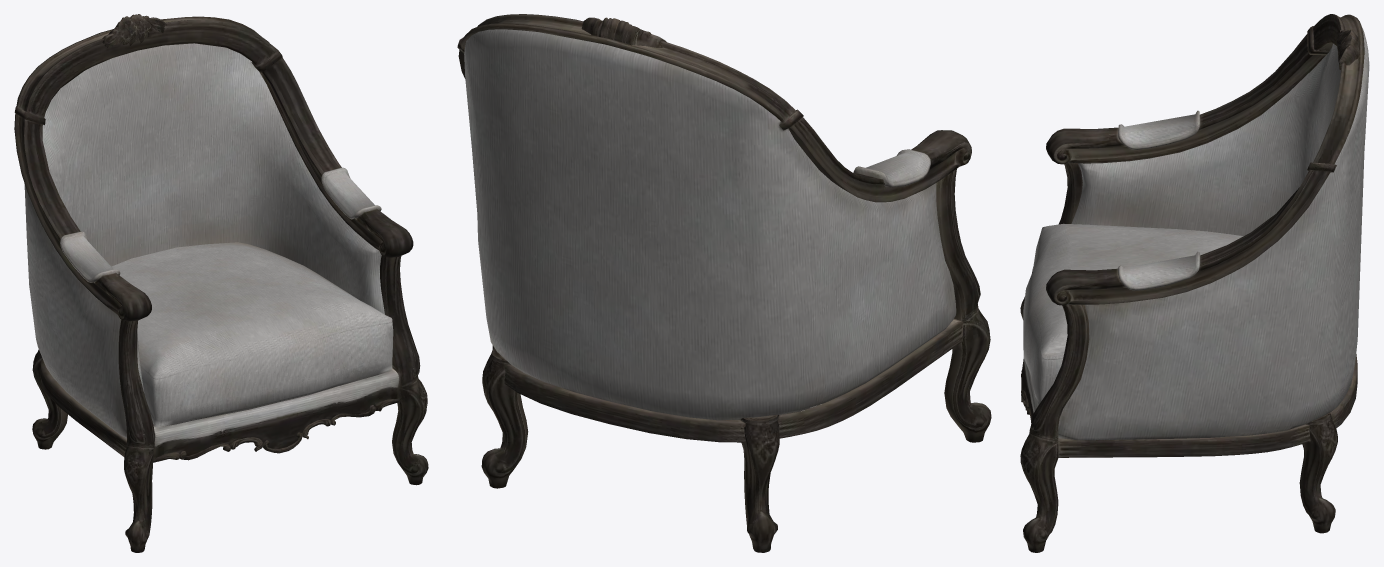
File: ArmChair_01.glb
3 renders of one model, left to right at view 1: azimuth 30°, elevation 25°; view 2: azimuth 150°, elevation 25°; view 3: azimuth 270°, elevation 25°, orthographic. The views are drawn at different scales.
Visible parts, largest first — view 1: ArmChair_01; view 2: ArmChair_01; view 3: ArmChair_01.
Part boxes in pixels (<box>): ArmChair_01: <box>14,14,428,552</box>; ArmChair_01: <box>457,14,991,552</box>; ArmChair_01: <box>1020,14,1369,552</box>.
Size of the model in its own units: 0.8485 by 1.07 by 0.7658.
Materials: 1 (1 with a texture image).
